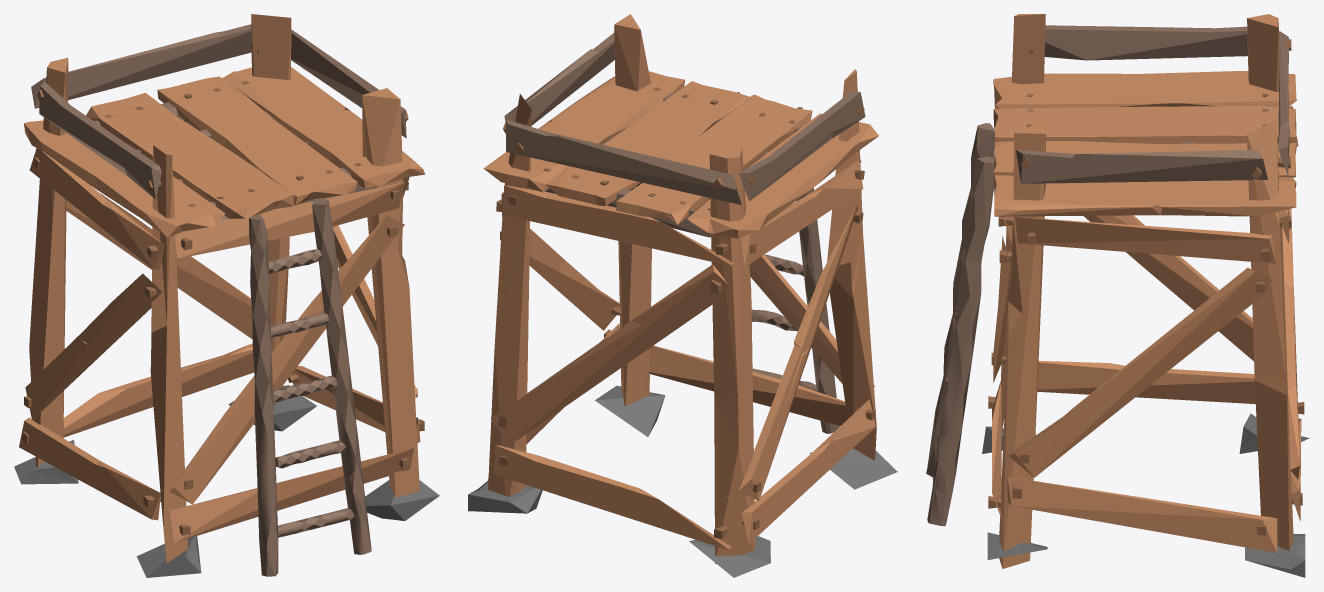
Rendered from TowerGuard.fbx.
The picture shows the model from 3 angles, left to right: view 1: azimuth 30°, elevation 25°; view 2: azimuth 150°, elevation 25°; view 3: azimuth 270°, elevation 25°; orthographic projection. The views are drawn at different scales.
Visible parts, largest first — view 1: gueard-tower-L2, gueard-tower-L2_cell.028, gueard-tower-L2_cell.036, gueard-tower-L2_cell.034, gueard-tower-L2_cell.048, gueard-tower-L2_cell.037, gueard-tower-L2_cell.030, gueard-tower-L2_cell.031, gueard-tower-L2_cell.018, gueard-tower-L2_cell.004, gueard-tower-L2_cell.002, gueard-tower-L2_cell.006 (+8 smaller); view 2: gueard-tower-L2, gueard-tower-L2_cell.002, gueard-tower-L2_cell.030, gueard-tower-L2_cell.018, gueard-tower-L2_cell.034, gueard-tower-L2_cell, gueard-tower-L2_cell.046; view 3: gueard-tower-L2, gueard-tower-L2_cell.016, gueard-tower-L2_cell.035, gueard-tower-L2_cell.002, gueard-tower-L2_cell.033, gueard-tower-L2_cell.046, gueard-tower-L2_cell.032, gueard-tower-L2_cell.037, gueard-tower-L2_cell.031, gueard-tower-L2_cell.036, gueard-tower-L2_cell.018, gueard-tower-L2_cell.029 (+5 smaller).
Boxes of the visible parts, left/top/right/bottom form: gueard-tower-L2: left=14, top=14, right=439, bottom=577; gueard-tower-L2_cell.028: left=169, top=260, right=368, bottom=504; gueard-tower-L2_cell.036: left=255, top=331, right=278, bottom=576; gueard-tower-L2_cell.034: left=153, top=367, right=187, bottom=562; gueard-tower-L2_cell.048: left=372, top=275, right=413, bottom=394; gueard-tower-L2_cell.037: left=326, top=282, right=360, bottom=469; gueard-tower-L2_cell.030: left=118, top=343, right=254, bottom=409; gueard-tower-L2_cell.031: left=122, top=247, right=251, bottom=335; gueard-tower-L2_cell.018: left=382, top=363, right=419, bottom=497; gueard-tower-L2_cell.004: left=29, top=209, right=66, bottom=368; gueard-tower-L2_cell.002: left=19, top=417, right=111, bottom=497; gueard-tower-L2_cell.006: left=170, top=468, right=337, bottom=536; gueard-tower-L2: left=468, top=14, right=897, bottom=577; gueard-tower-L2_cell.002: left=742, top=454, right=837, bottom=543; gueard-tower-L2_cell.030: left=496, top=445, right=635, bottom=502; gueard-tower-L2_cell.018: left=625, top=299, right=650, bottom=406; gueard-tower-L2_cell.034: left=853, top=285, right=873, bottom=407; gueard-tower-L2_cell: left=626, top=496, right=731, bottom=549; gueard-tower-L2_cell.046: left=776, top=342, right=812, bottom=440; gueard-tower-L2: left=926, top=14, right=1309, bottom=577; gueard-tower-L2_cell.016: left=1007, top=476, right=1277, bottom=552; gueard-tower-L2_cell.035: left=1254, top=364, right=1293, bottom=550; gueard-tower-L2_cell.002: left=1136, top=369, right=1255, bottom=403; gueard-tower-L2_cell.033: left=1050, top=365, right=1172, bottom=443; gueard-tower-L2_cell.046: left=1126, top=252, right=1242, bottom=324; gueard-tower-L2_cell.032: left=1037, top=362, right=1120, bottom=394; gueard-tower-L2_cell.037: left=939, top=243, right=981, bottom=432; gueard-tower-L2_cell.031: left=1284, top=285, right=1299, bottom=469; gueard-tower-L2_cell.036: left=927, top=239, right=966, bottom=472; gueard-tower-L2_cell.018: left=999, top=414, right=1030, bottom=568; gueard-tower-L2_cell.029: left=1185, top=504, right=1277, bottom=548.
Bounding box in the file's own units: 289 × 391 × 315.
